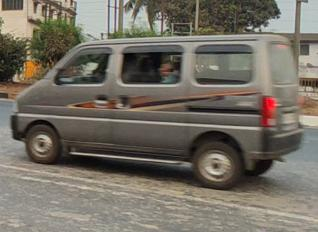Auto: (13, 35, 306, 192)
